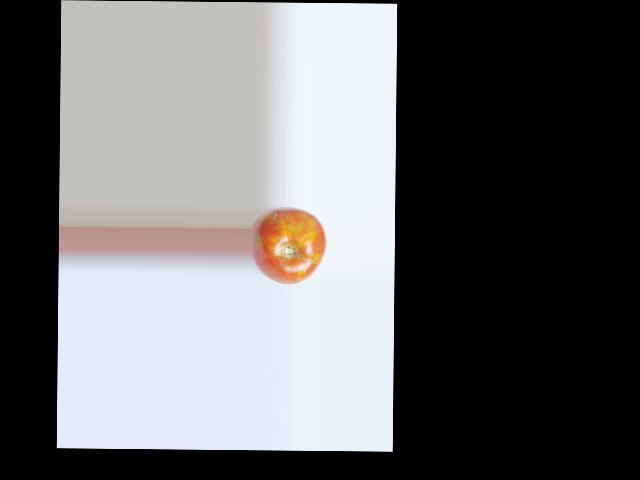tomato: (251, 206, 326, 284)
